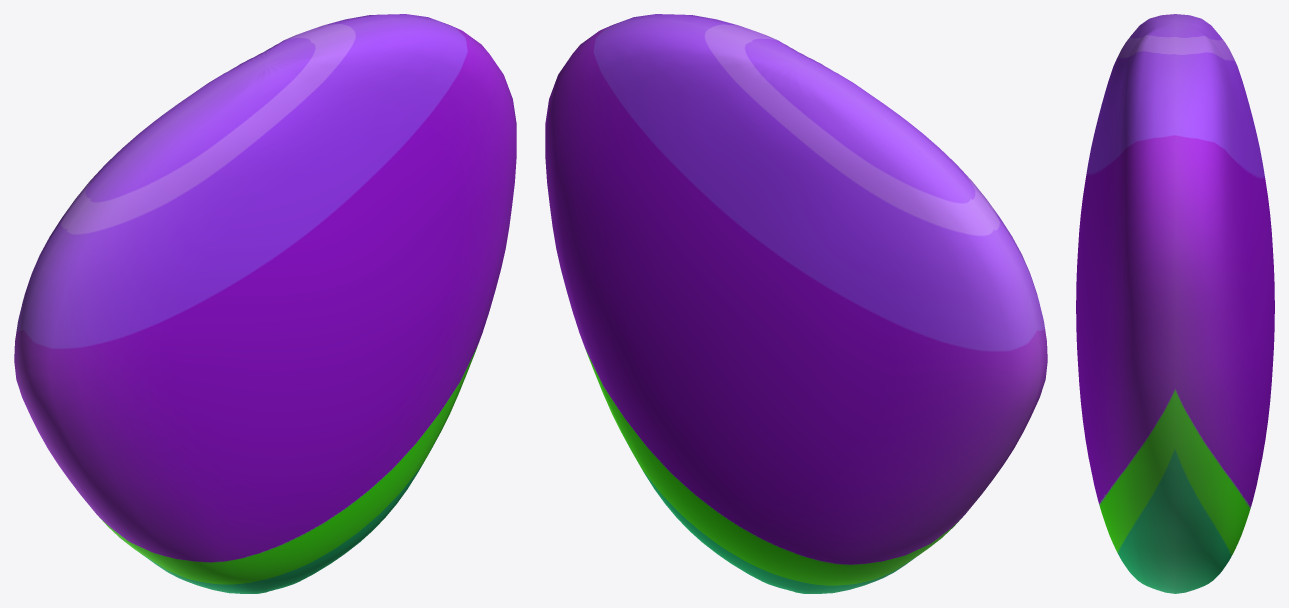
The model's file is Telia_Pebble_Smooth.fbx.
3 views of the same model, side by side, from view 1: azimuth 30°, elevation 25°; view 2: azimuth 150°, elevation 25°; view 3: azimuth 270°, elevation 25° (orthographic). The views are drawn at different scales.
Visible parts, largest first — view 1: pSphere1; view 2: pSphere1; view 3: pSphere1.
Part boxes in pixels (box(x1,y1,x2,y2)): pSphere1: box(14, 14, 516, 593); pSphere1: box(545, 14, 1047, 593); pSphere1: box(1076, 14, 1274, 593).
Size of what is drawn, in the model's own units: 7.49 by 7.93 by 2.48.
